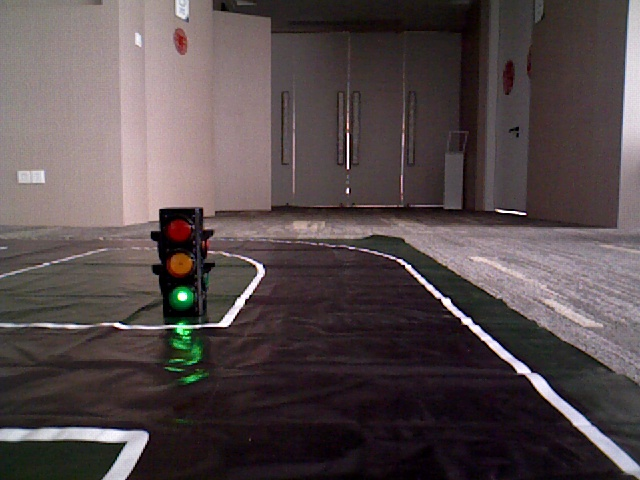green: (158, 208, 205, 315)
